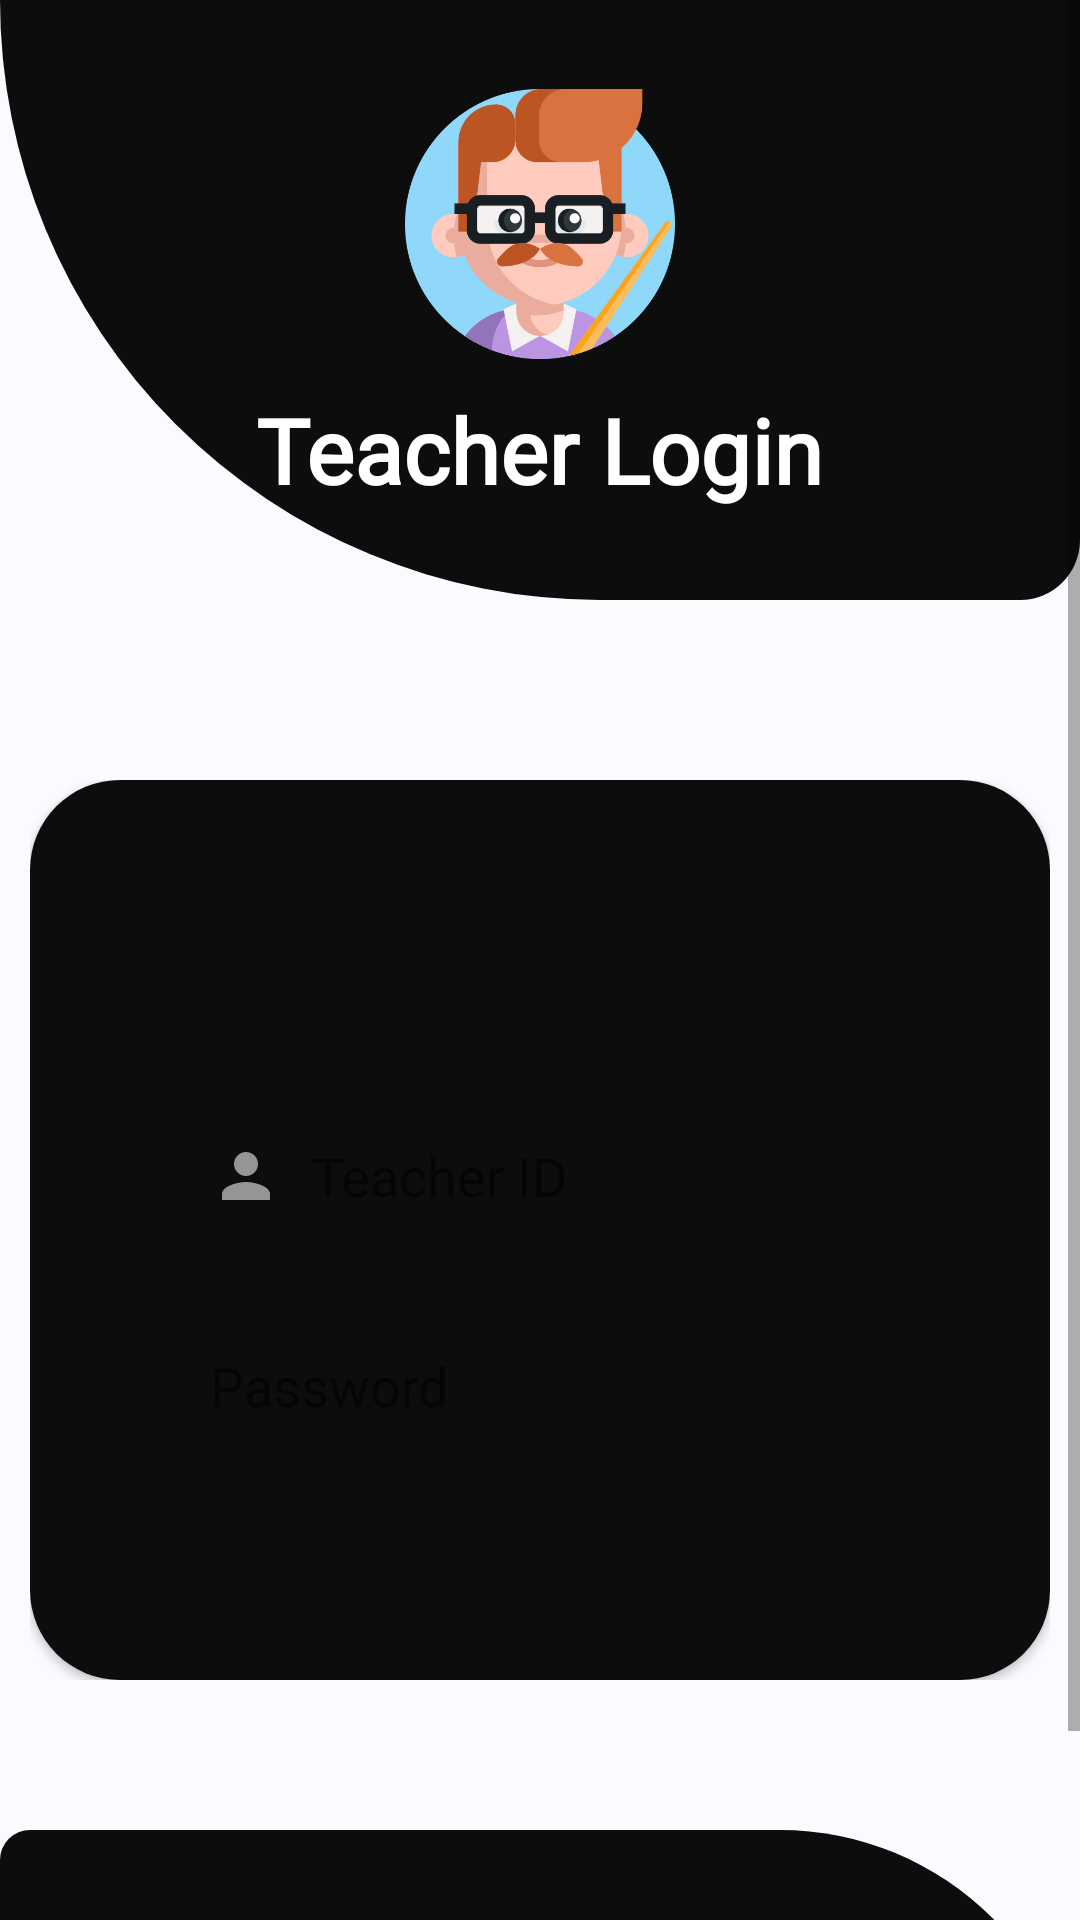

Locate icon controls on the screen. Image size 1080×1920, boxes as {"left": x1, "top": y1, "right": x2, "bottom": y2}.
professor: {"left": 405, "top": 89, "right": 675, "bottom": 359}
